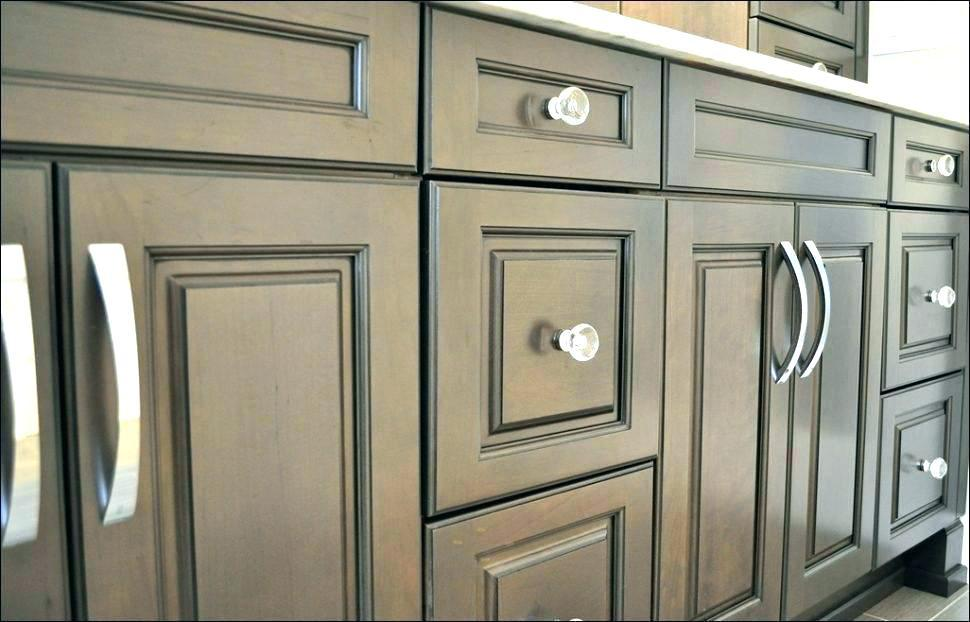cabinet_door: (84, 180, 417, 622), (435, 192, 654, 449), (680, 218, 779, 609), (432, 19, 654, 168), (4, 165, 68, 622), (801, 213, 875, 559), (441, 507, 646, 622), (886, 216, 970, 373), (877, 387, 970, 526), (892, 124, 968, 199)
handle: (86, 240, 148, 515), (2, 246, 47, 542), (764, 238, 806, 384), (802, 234, 832, 381), (543, 78, 588, 134), (558, 322, 598, 367), (920, 284, 957, 320), (922, 146, 958, 177), (922, 448, 949, 488)
